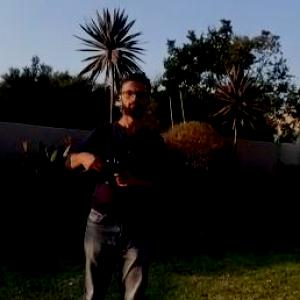follow: (58, 65, 173, 299)
